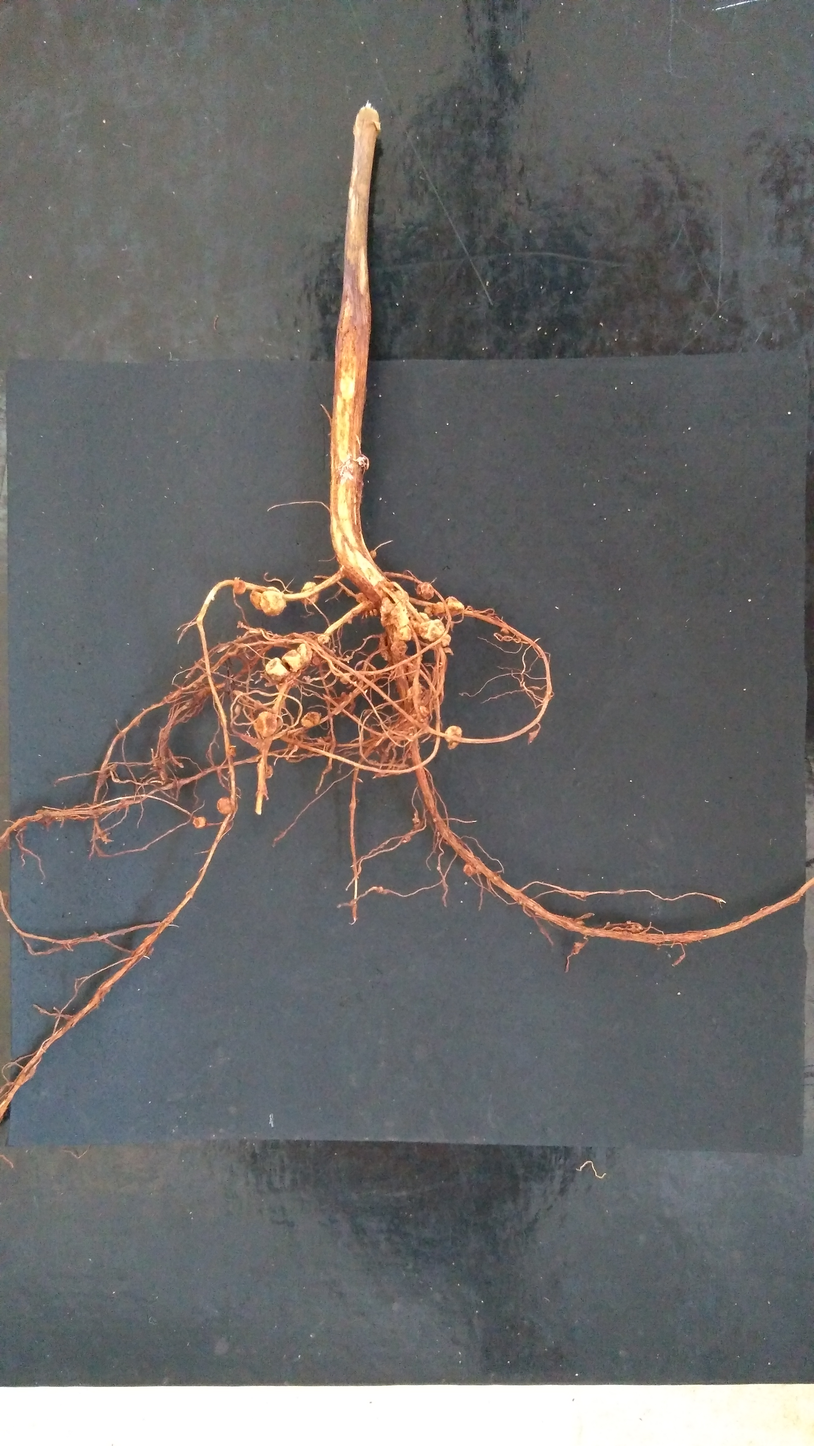nodule: (249, 585, 287, 617), (380, 597, 410, 628), (419, 619, 451, 647), (379, 637, 408, 661), (265, 657, 290, 683), (256, 710, 277, 737), (356, 593, 378, 617), (281, 650, 304, 672), (410, 612, 430, 636), (444, 725, 462, 750), (444, 596, 465, 617), (300, 582, 319, 605), (407, 684, 428, 703), (612, 922, 644, 934), (405, 655, 419, 682), (340, 695, 356, 718), (296, 642, 313, 663), (217, 797, 238, 814), (416, 582, 434, 600), (395, 624, 412, 642), (412, 706, 430, 723), (301, 712, 321, 727), (431, 601, 448, 617), (463, 861, 482, 875), (310, 648, 323, 666), (233, 578, 246, 595), (193, 816, 206, 828), (317, 635, 330, 645), (264, 765, 273, 779), (423, 607, 434, 617), (340, 675, 351, 685), (228, 744, 236, 757), (357, 456, 366, 467), (232, 689, 243, 698), (302, 675, 311, 684), (254, 700, 262, 709), (224, 823, 231, 833), (501, 627, 510, 634), (237, 620, 244, 629), (370, 550, 377, 558), (376, 887, 383, 893)
